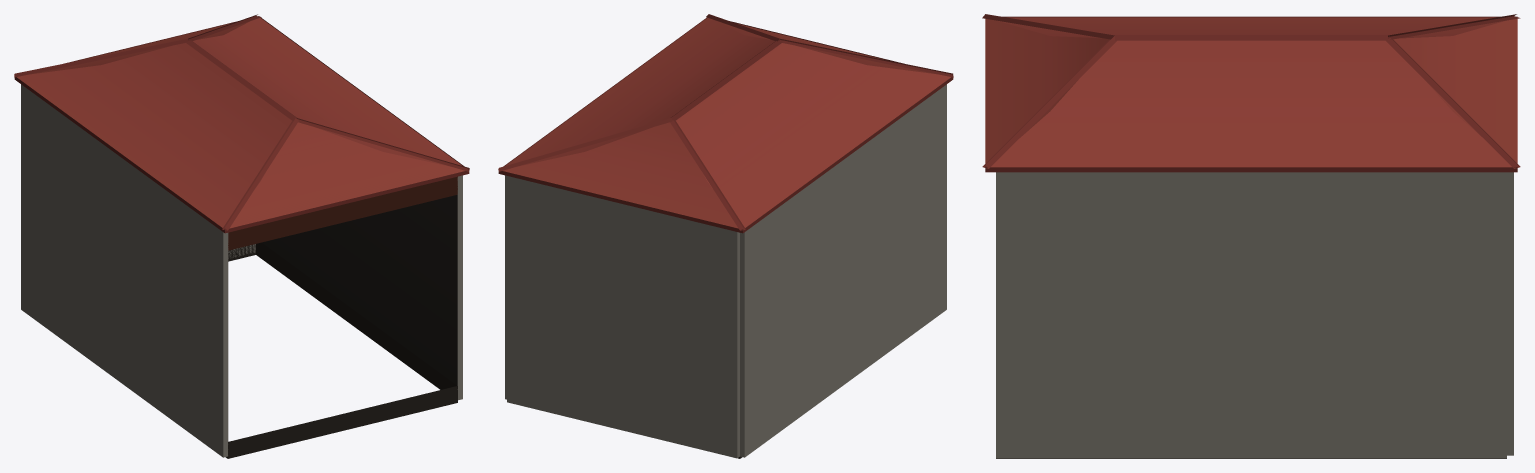
The picture shows the model from 3 angles, left to right: view 1: azimuth 30°, elevation 25°; view 2: azimuth 150°, elevation 25°; view 3: azimuth 270°, elevation 25°; orthographic projection. The views are drawn at different scales.
Parts seen in each view (by area): view 1: yang-choon-tai-opera-stage-lod1; view 2: yang-choon-tai-opera-stage-lod1; view 3: yang-choon-tai-opera-stage-lod1.
Boxes of the visible parts, box(x1,y1,x2,y2) form: yang-choon-tai-opera-stage-lod1: box(14, 14, 469, 458); yang-choon-tai-opera-stage-lod1: box(498, 14, 953, 458); yang-choon-tai-opera-stage-lod1: box(982, 14, 1520, 458).
Bounding box in the file's own units: 10.34 × 11.13 × 15.39.
